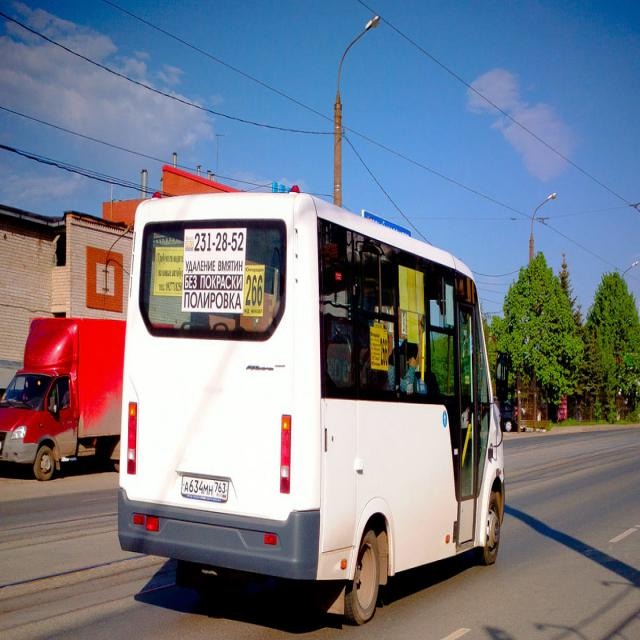number-of-bus: (245, 274, 265, 307)
